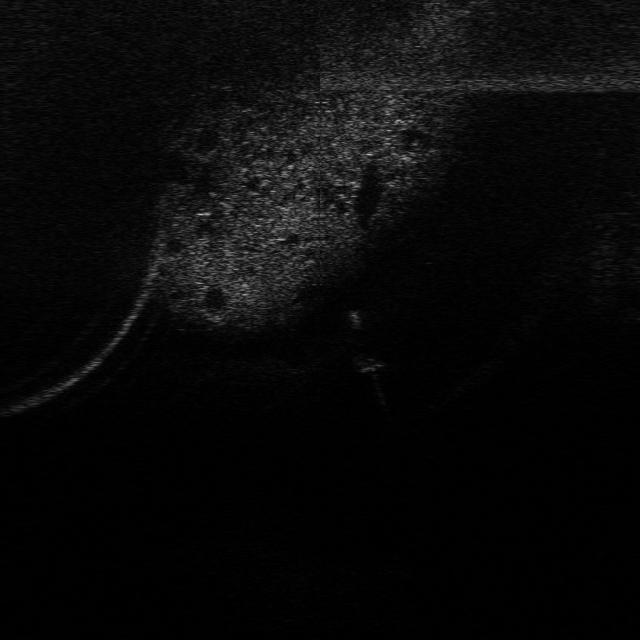cube: (348, 348, 388, 374)
cylinder: (340, 306, 370, 334)
